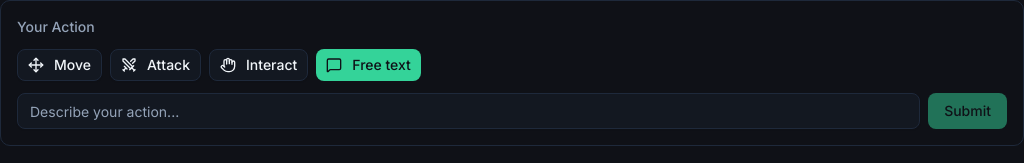
Test: ActionSubmissionPanel › shows 'Waiting for GM' message after successful submit
Type "I attack the dragon" into the field with placeholder "Describe your action...".
click(469, 111); type("I attack the dragon")  # box [17,93,920,129]
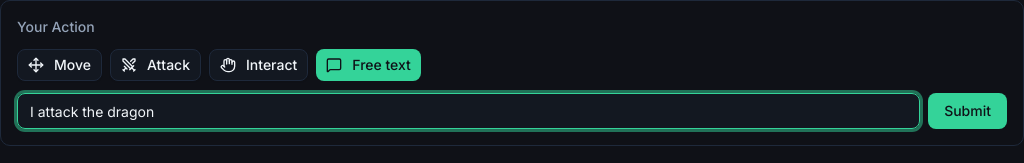
Click the button "Submit".
click(968, 111)  # box [928,93,1007,129]
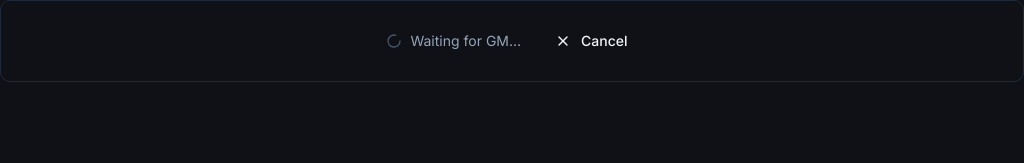
Check: the text "Waiting for GM…" is shown, box [410,31,521,51]
